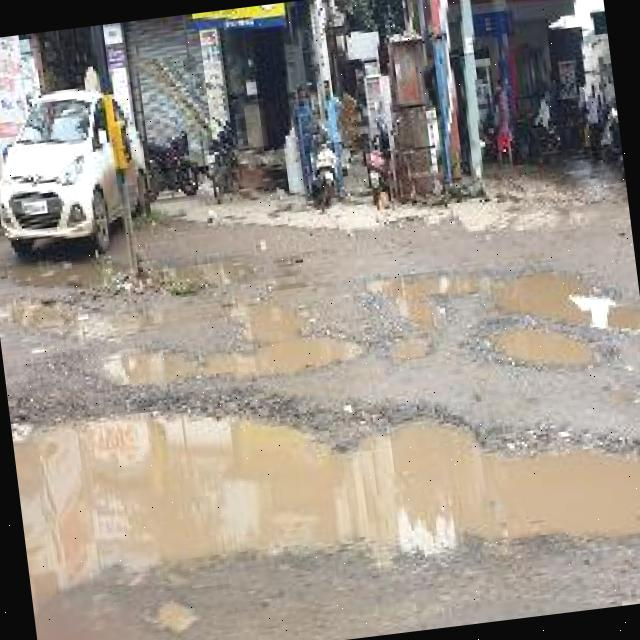stagnation: (10, 401, 640, 601), (54, 296, 370, 394), (474, 313, 618, 395), (357, 260, 487, 338)
